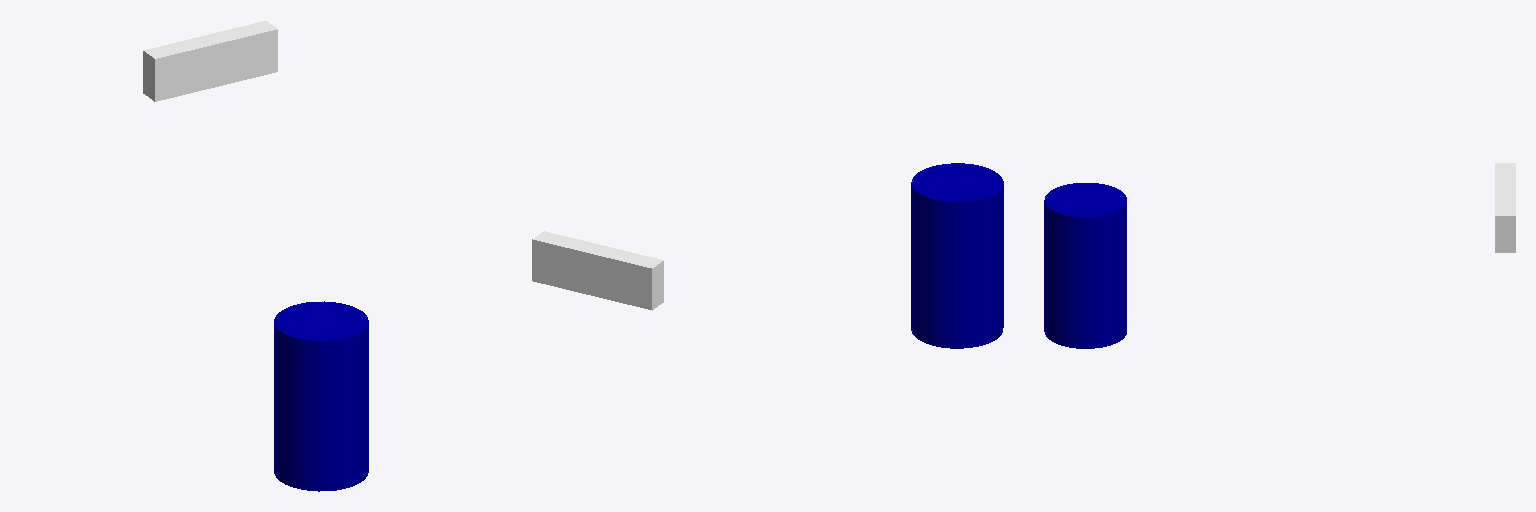
The robot description file, URDF, robot "my_robot":
<?xml version="1.0"?>
<robot xmlns:xacro="http://www.ros.org/wiki/xacro" name="my_robot">

    <material name="blue">
        <color rgba="0.0 0.0 0.7 1.0"/>
    </material>
    <material name="white">
    <color rgba="1.0 1.0 1.0 1.0"/>
    </material>
    
    <link name="base_link">
        <visual>
            <geometry>
                <cylinder radius="0.2" length="0.7"/>
            </geometry>
            <origin rpy="0.0 0.0 0.0" xyz="0.0 0.0 0.0"/>
            <material name="blue"/>
        </visual>

        <collision>
            <geometry>
                <cylinder radius="0.2" length="0.7"/>
            </geometry>
            <origin rpy="0.0 0.0 0.0" xyz="0.0 0.0 0.0"/>
        </collision>

        <inertial>
            <mass value="10"/>    
            <inertia ixx="1e-3" ixy="0.0" ixz="0.0" iyy="1e-3" iyz="0.0" izz="1e-3"/>
        </inertial>
    </link>

    <link name="right_leg">
        <visual>
            <geometry>
                <box size="0.6 0.1 0.2"/>
            </geometry>
            <origin rpy="0 0 0" xyz="0 0 -0.3"/>
            <material name="white"/>
        </visual>
    </link>

    <joint name="base_to_right_leg" type="continuous">
        <axis rpy="0.0 0.0 0.0" xyz="0 1 0"/>
        <parent link="base_link"/>
        <child link="right_leg"/>
        <origin xyz="0.627554 2.023215 0.900000"/>
    </joint>

</robot>

--- Render facts (derived) ---
The picture shows the robot from 3 angles, left to right: view 1: azimuth 30°, elevation 25°; view 2: azimuth 150°, elevation 25°; view 3: azimuth 270°, elevation 25°; orthographic projection.
Robot: my_robot — 2 links, 1 joints (1 continuous); root link base_link; default pose: every joint at zero.
Links seen in each view (by area): view 1: base_link, right_leg; view 2: base_link, right_leg; view 3: base_link, right_leg.
Boxes of the visible links, bbox=[...] form: base_link: bbox=[274, 301, 368, 491]; right_leg: bbox=[143, 21, 277, 101]; base_link: bbox=[911, 163, 1003, 348]; right_leg: bbox=[532, 231, 663, 310]; base_link: bbox=[1044, 183, 1126, 348]; right_leg: bbox=[1495, 163, 1515, 252].
Size in the robot's own frame: 1.13 by 2.27 by 1.05 metres.
Geometry: primitives only (box / cylinder / sphere), no mesh files.